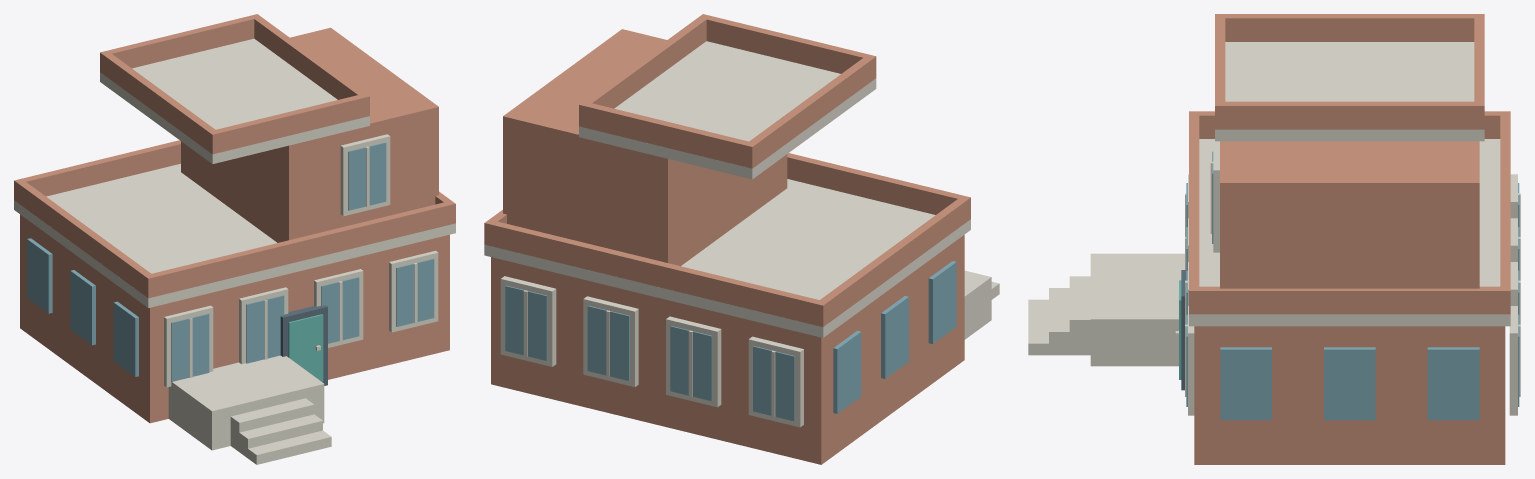
Rendered from voxel-city-districts-split-level-home-688923df__24766.glb.
The picture shows the model from 3 angles, left to right: view 1: azimuth 30°, elevation 25°; view 2: azimuth 150°, elevation 25°; view 3: azimuth 270°, elevation 25°; orthographic projection. The views are drawn at different scales.
Visible parts, largest first — view 1: split-level-home-brick, split-level-home-concrete, split-level-home-glass, split-level-home-accent, split-level-home-dark; view 2: split-level-home-brick, split-level-home-concrete, split-level-home-glass; view 3: split-level-home-brick, split-level-home-concrete, split-level-home-glass, split-level-home-dark.
Boxes of the visible parts, <box> form: split-level-home-brick: <box>14,14,455,423</box>; split-level-home-concrete: <box>14,38,455,464</box>; split-level-home-glass: <box>27,142,434,381</box>; split-level-home-accent: <box>288,314,323,381</box>; split-level-home-dark: <box>280,305,327,385</box>; split-level-home-brick: <box>484,14,970,464</box>; split-level-home-concrete: <box>484,41,999,427</box>; split-level-home-glass: <box>505,261,956,421</box>; split-level-home-brick: <box>1189,14,1510,464</box>; split-level-home-concrete: <box>1028,42,1520,415</box>; split-level-home-glass: <box>1186,151,1519,420</box>; split-level-home-dark: <box>1181,270,1186,390</box>.
Bounding box in the file's own units: 8.2 × 6.75 × 9.49.
